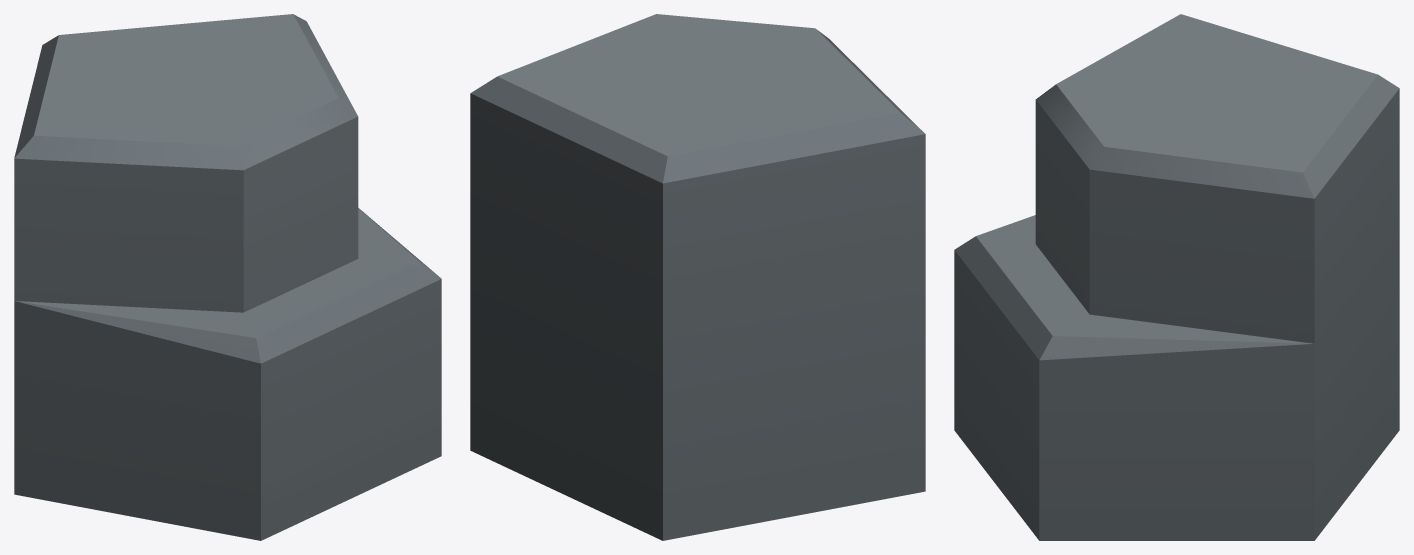
File: Rock_1_A_Color1.glb
3 views of the same model, side by side, from view 1: azimuth 30°, elevation 25°; view 2: azimuth 150°, elevation 25°; view 3: azimuth 270°, elevation 25° (orthographic). The views are drawn at different scales.
Visible parts, largest first — view 1: Rock_1_A_Color1; view 2: Rock_1_A_Color1; view 3: Rock_1_A_Color1.
Part boxes in pixels (left/top/right/bottom): Rock_1_A_Color1: left=14, top=14, right=441, bottom=540; Rock_1_A_Color1: left=470, top=14, right=925, bottom=540; Rock_1_A_Color1: left=954, top=14, right=1399, bottom=540.
Size of the model in its own units: 0.578 by 0.5403 by 0.6078.
Materials: 1 (1 with a texture image).
